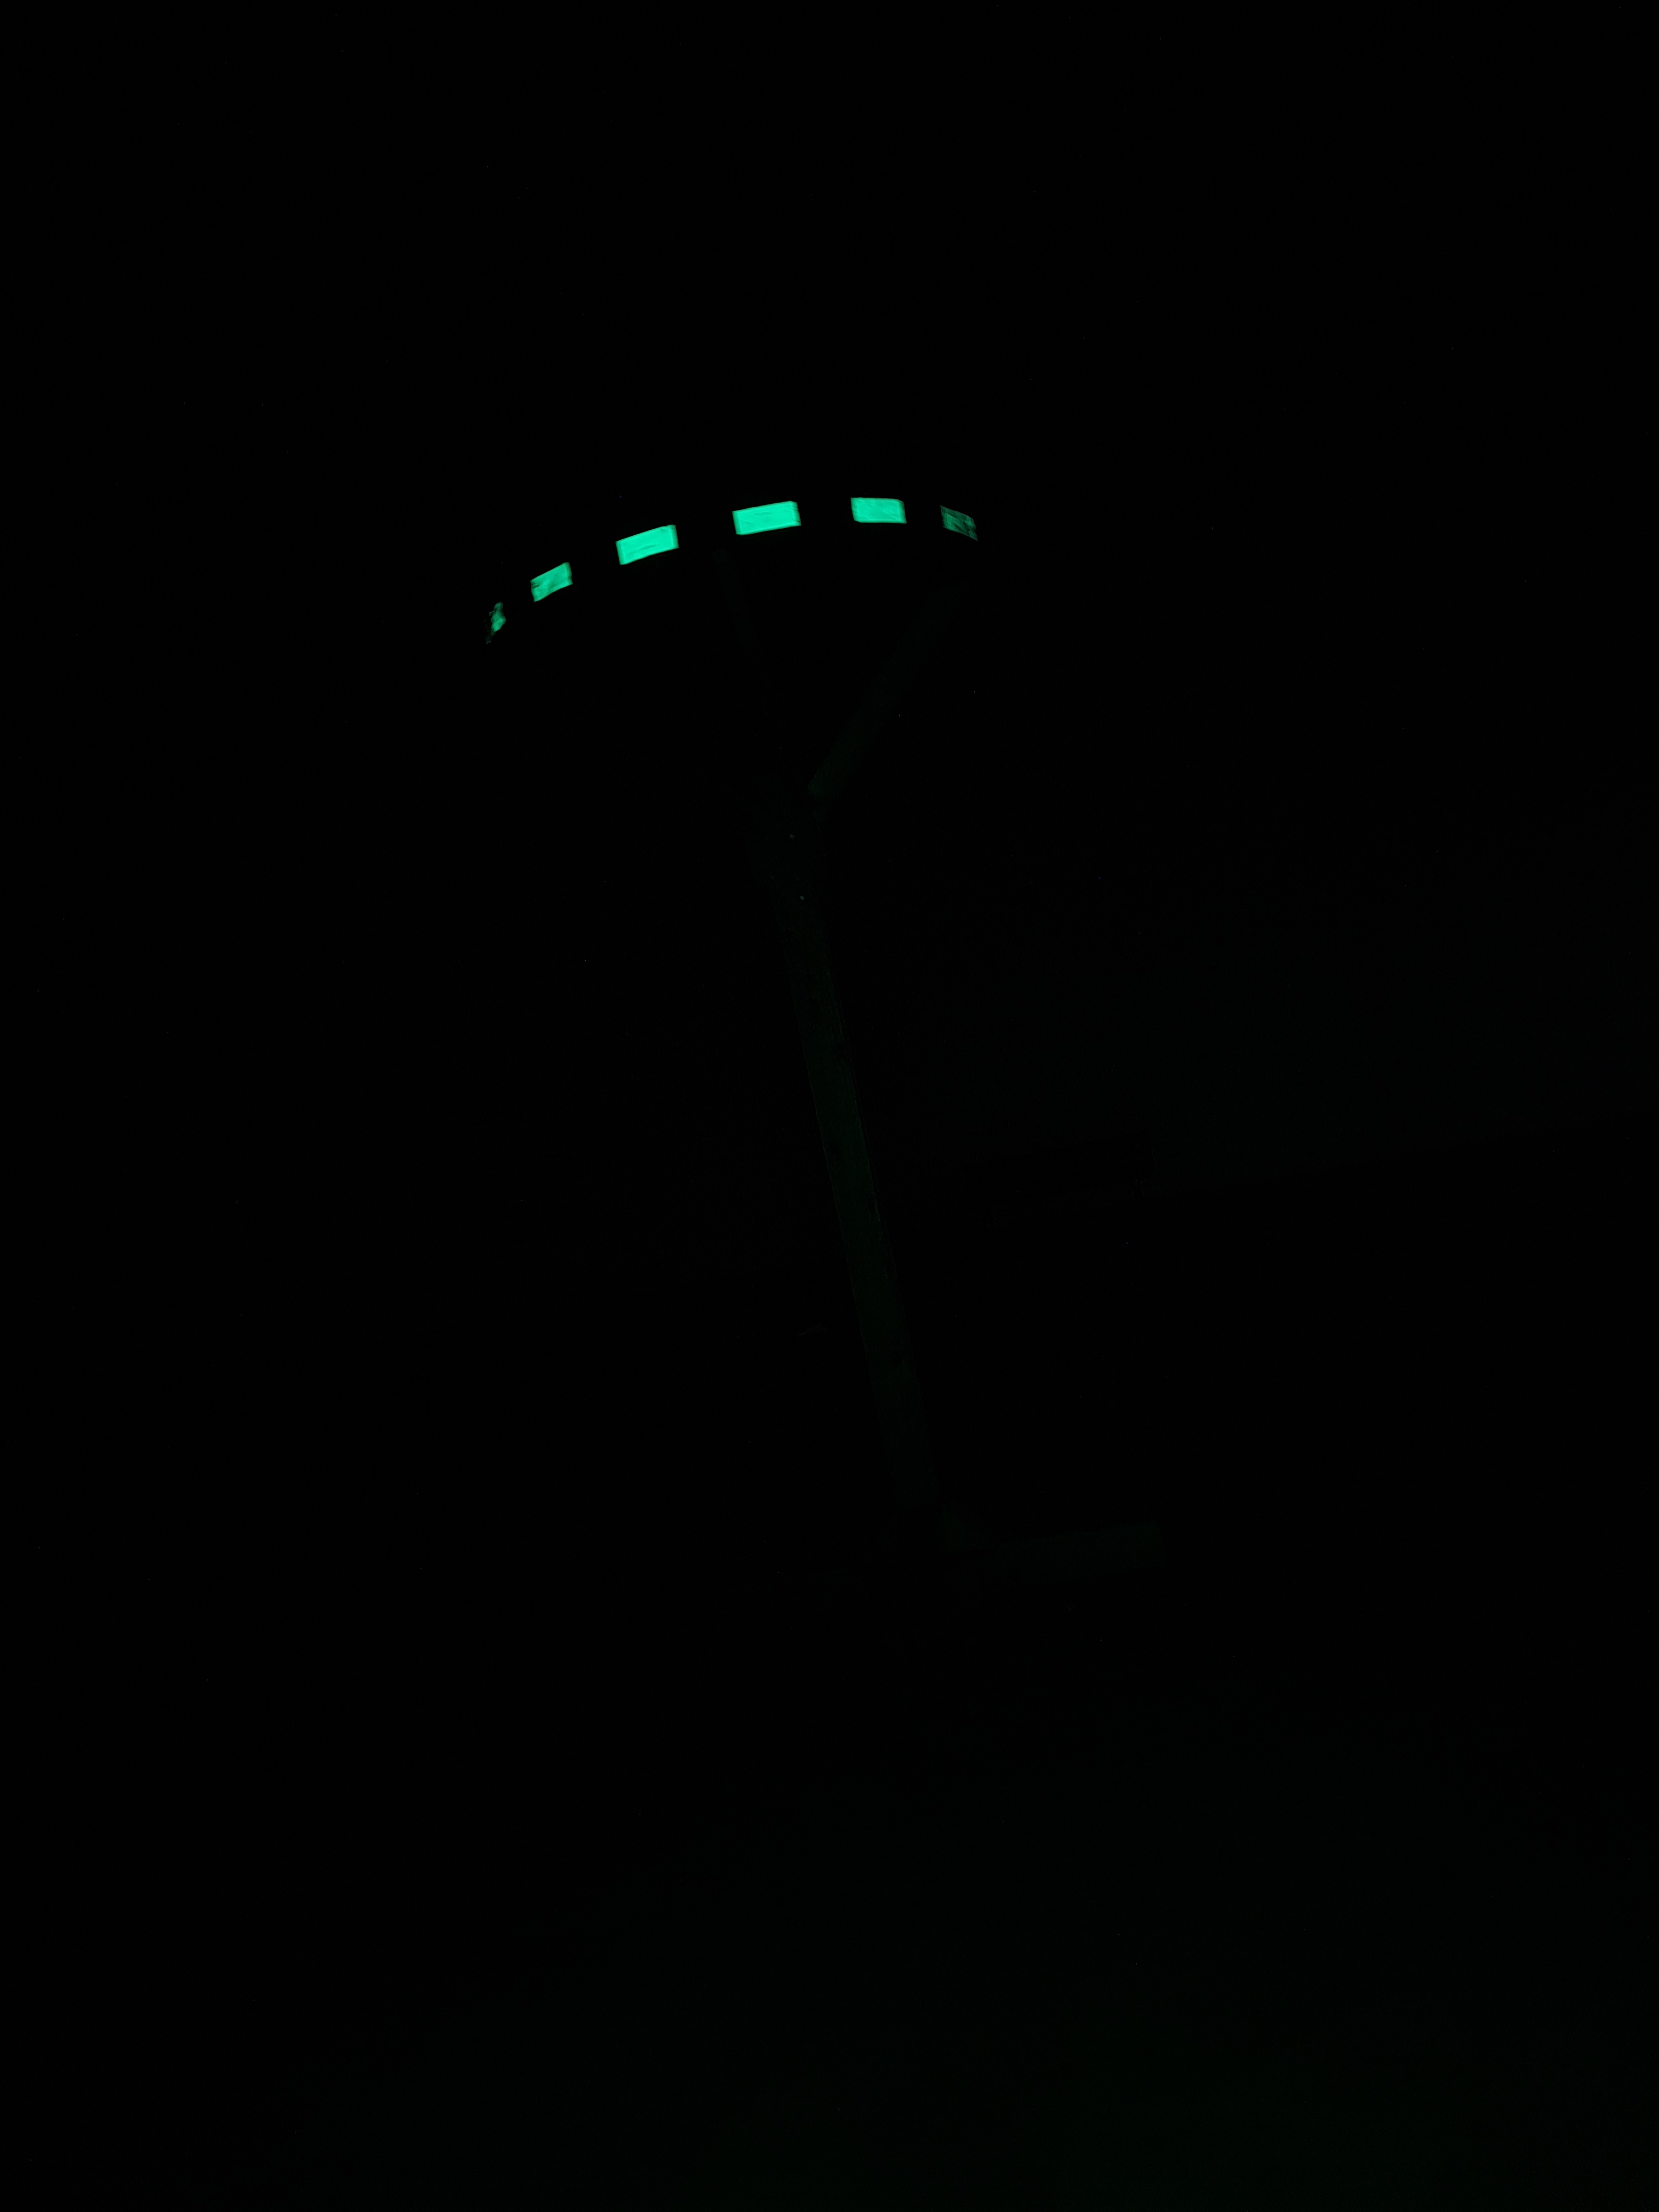hoop: (484, 496, 974, 646)
